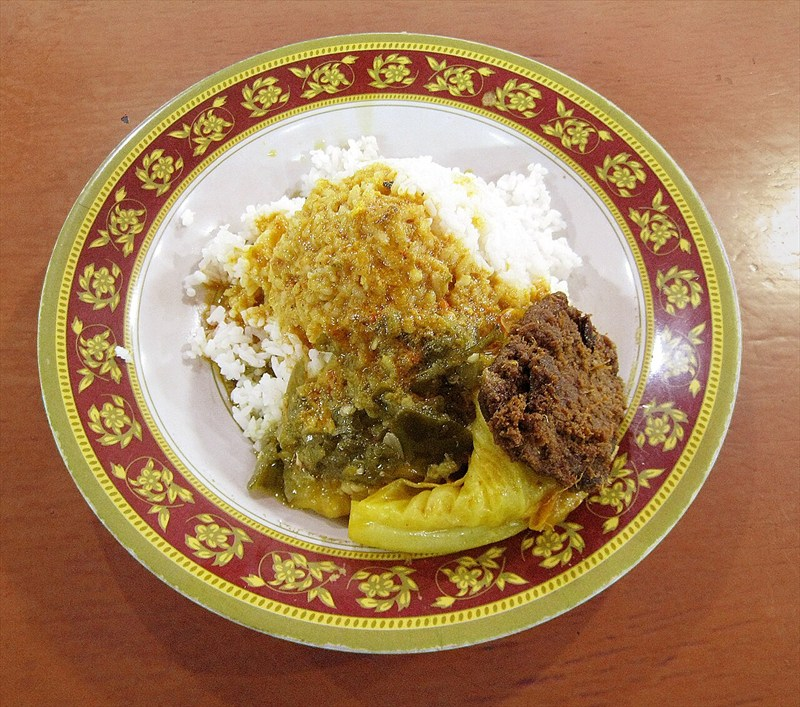Rendang: (82, 58, 688, 614)
